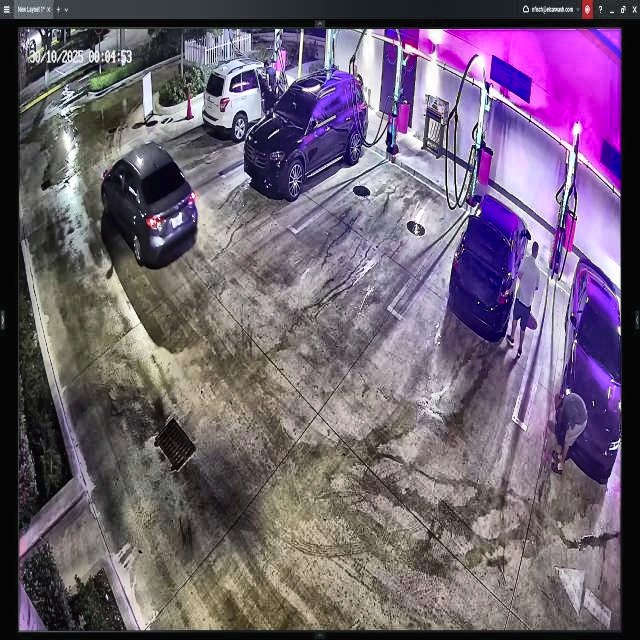Car: (244, 68, 365, 196), (451, 193, 529, 339), (100, 143, 198, 257)
